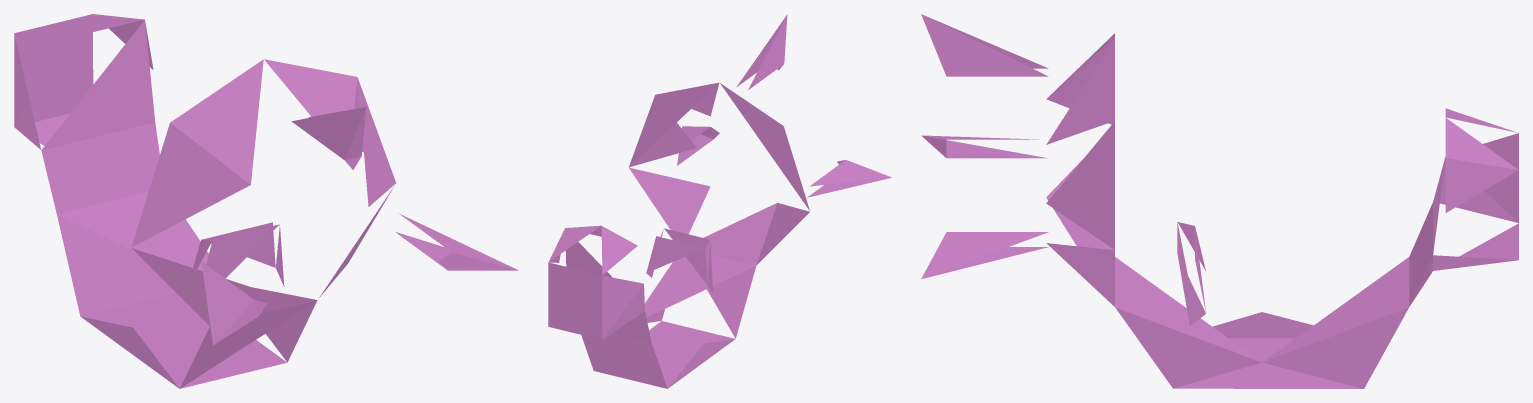
Rendered from substop.glb.
3 views of the same model, side by side, from view 1: azimuth 30°, elevation 25°; view 2: azimuth 150°, elevation 25°; view 3: azimuth 270°, elevation 25° (orthographic). The views are drawn at different scales.
Parts seen in each view (by area): view 1: substop; view 2: substop; view 3: substop.
Part boxes in pixels (x1,y1,x2,y2): substop: (14, 14, 518, 388); substop: (548, 14, 891, 388); substop: (921, 14, 1518, 388).
Size of the model in its own units: 196 by 223 by 344.
